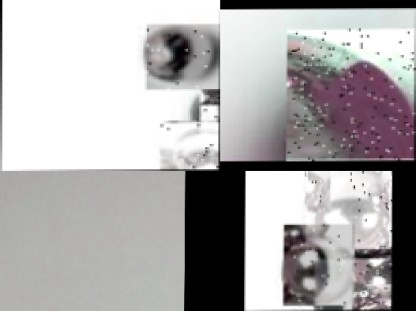ironball: (284, 29, 415, 161), (304, 171, 390, 248), (281, 224, 353, 306), (144, 24, 220, 89), (312, 259, 391, 311), (158, 123, 219, 170), (197, 84, 219, 143)
